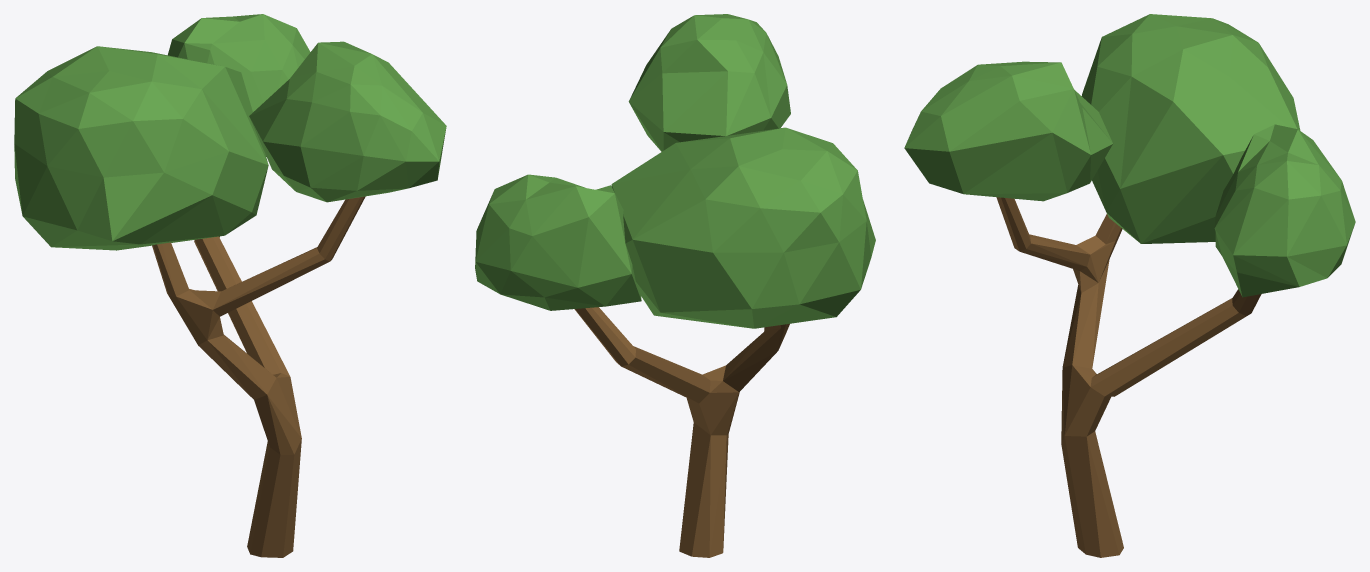
The model's file is Tree2 1.fbx.
3 views of the same model, side by side, from view 1: azimuth 30°, elevation 25°; view 2: azimuth 150°, elevation 25°; view 3: azimuth 270°, elevation 25° (orthographic). The views are drawn at different scales.
Visible parts, largest first — view 1: Plane; view 2: Plane; view 3: Plane.
Part boxes in pixels (x1,y1,x2,y2): Plane: [14, 14, 446, 557]; Plane: [475, 14, 875, 557]; Plane: [904, 14, 1355, 557].
Size of the model in its own units: 633 by 731 by 890.
